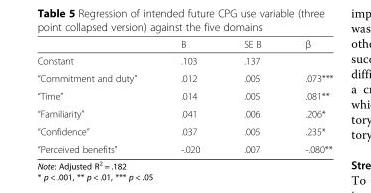table: (36, 36, 332, 154)
table column: (36, 36, 158, 154), (158, 36, 221, 154), (221, 36, 282, 154), (282, 36, 332, 154)
table column header: (36, 36, 332, 52)
table row: (36, 86, 332, 104), (36, 104, 332, 122), (36, 52, 332, 69), (36, 69, 332, 86), (36, 122, 332, 139), (36, 36, 332, 52), (36, 139, 332, 154)
